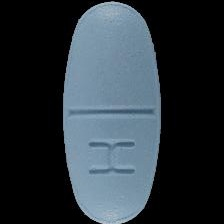0615-7976: (0, 0, 224, 224)
